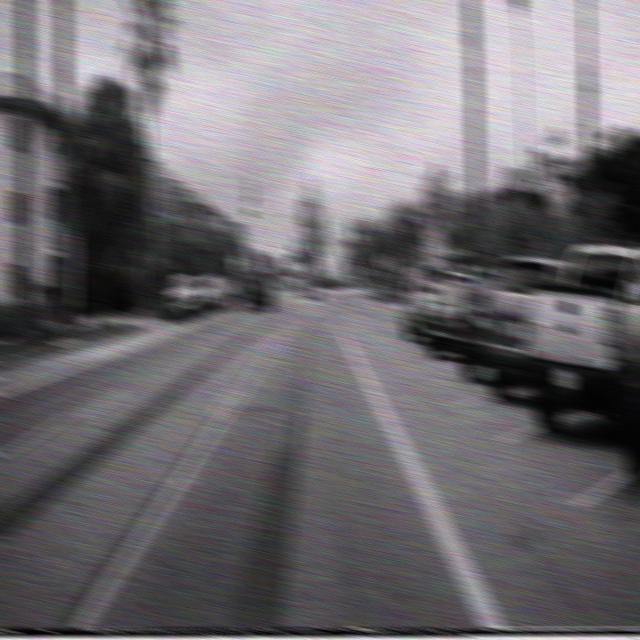pedestrianCrossing: (375, 251, 392, 271)
